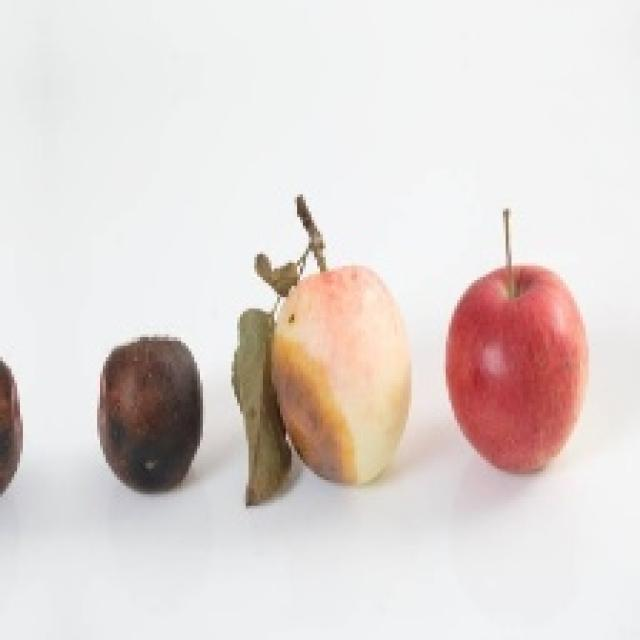rotten_apple: (274, 274, 413, 486), (98, 341, 199, 488)
